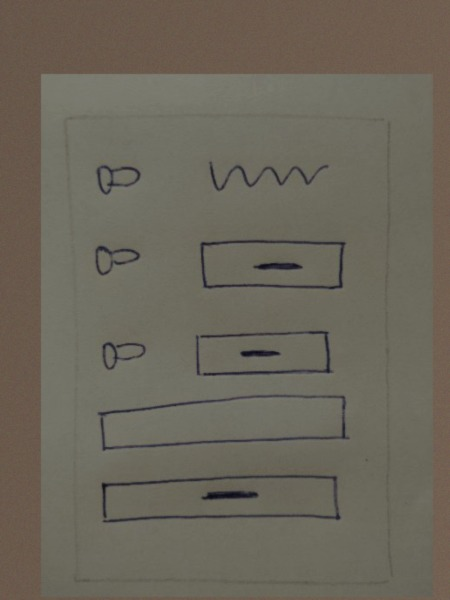button: (96, 468, 352, 526), (192, 235, 352, 298), (191, 324, 339, 383)
switch: (91, 154, 145, 204), (91, 234, 145, 284), (96, 329, 152, 376)
text: (197, 149, 334, 201)
text_input: (93, 391, 356, 456)
